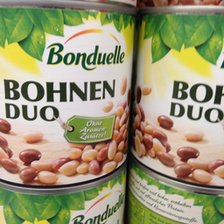beans: (1, 3, 137, 188), (132, 1, 224, 187)
